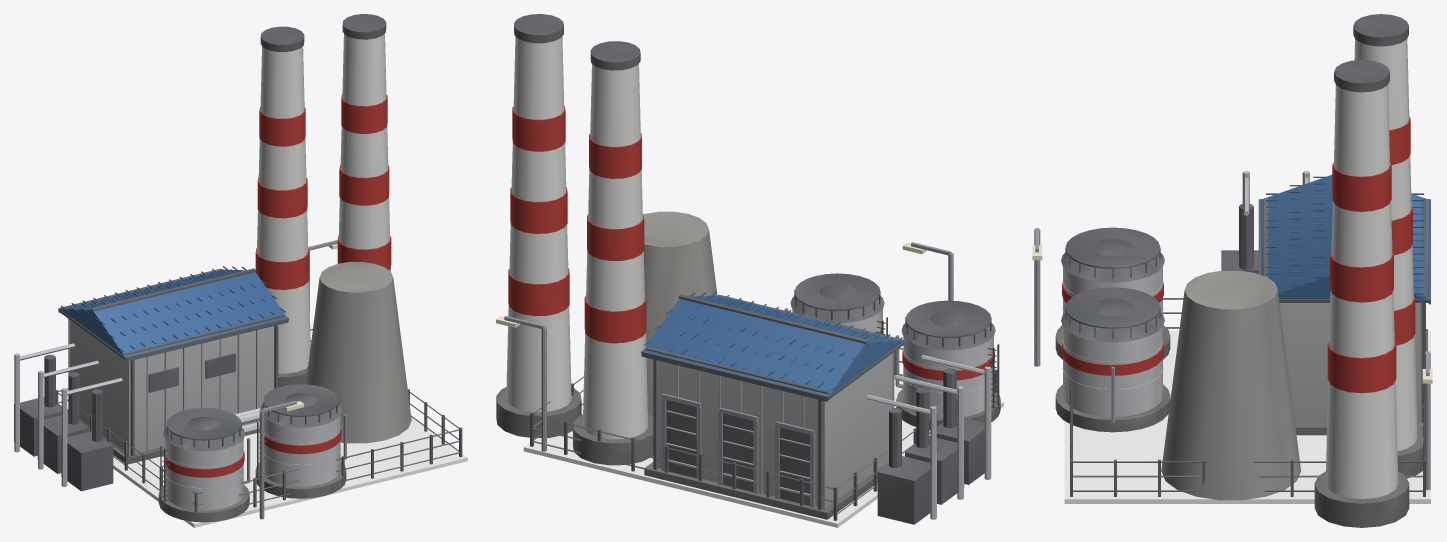
File: Power_P2.fbx
3 views of the same model, side by side, from view 1: azimuth 30°, elevation 25°; view 2: azimuth 150°, elevation 25°; view 3: azimuth 270°, elevation 25° (orthographic). The views are drawn at different scales.
Visible parts, largest first — view 1: Power.Hall, Power.Stack0, Power.CoolingTowers, Power.Stack1, Power.Tank0, Power.Switchyard, Power.Tank1, Power.Yard, Power.Fence, Power.Lamp0; view 2: Power.Hall, Power.Stack0, Power.Stack1, Power.Switchyard, Power.Tank0, Power.CoolingTowers, Power.Tank1, Power.Yard, Power.Fence, Power.Lamp1, Power.Lamp0; view 3: Power.Stack1, Power.CoolingTowers, Power.Hall, Power.Tank1, Power.Stack0, Power.Yard, Power.Tank0, Power.Fence, Power.Switchyard, Power.Lamp0, Power.Lamp1.
Boxes of the visible parts, x1,y1,x2,y2 form: Power.Hall: (58,266,288,464); Power.Stack0: (255,26,310,387); Power.CoolingTowers: (306,262,411,443); Power.Stack1: (337,14,391,271); Power.Tank0: (158,408,250,522); Power.Switchyard: (14,343,122,491); Power.Tank1: (255,384,346,498); Power.Yard: (113,417,467,527); Power.Fence: (56,328,462,512); Power.Lamp0: (259,401,303,519); Power.Hall: (641,292,905,519); Power.Stack0: (573,41,653,465); Power.Stack1: (496,14,581,438); Power.Switchyard: (867,355,991,524); Power.Tank0: (895,300,1000,430); Power.CoolingTowers: (643,211,717,416); Power.Tank1: (784,273,887,335); Power.Yard: (523,379,1003,527); Power.Fence: (530,348,997,520); Power.Lamp1: (496,316,546,451); Power.Lamp0: (902,242,953,300); Power.Stack1: (1314,60,1409,527); Power.CoolingTowers: (1161,270,1300,500); Power.Hall: (1258,175,1430,435); Power.Tank1: (1055,287,1170,432); Power.Stack0: (1353,14,1423,478); Power.Yard: (1064,330,1430,503); Power.Tank0: (1055,227,1170,359); Power.Fence: (1070,298,1425,496); Power.Switchyard: (1221,171,1309,273); Power.Lamp0: (1032,228,1042,366); Power.Lamp1: (1422,351,1432,490).
Size of the model in its own units: 3335 by 2921 by 2405.
